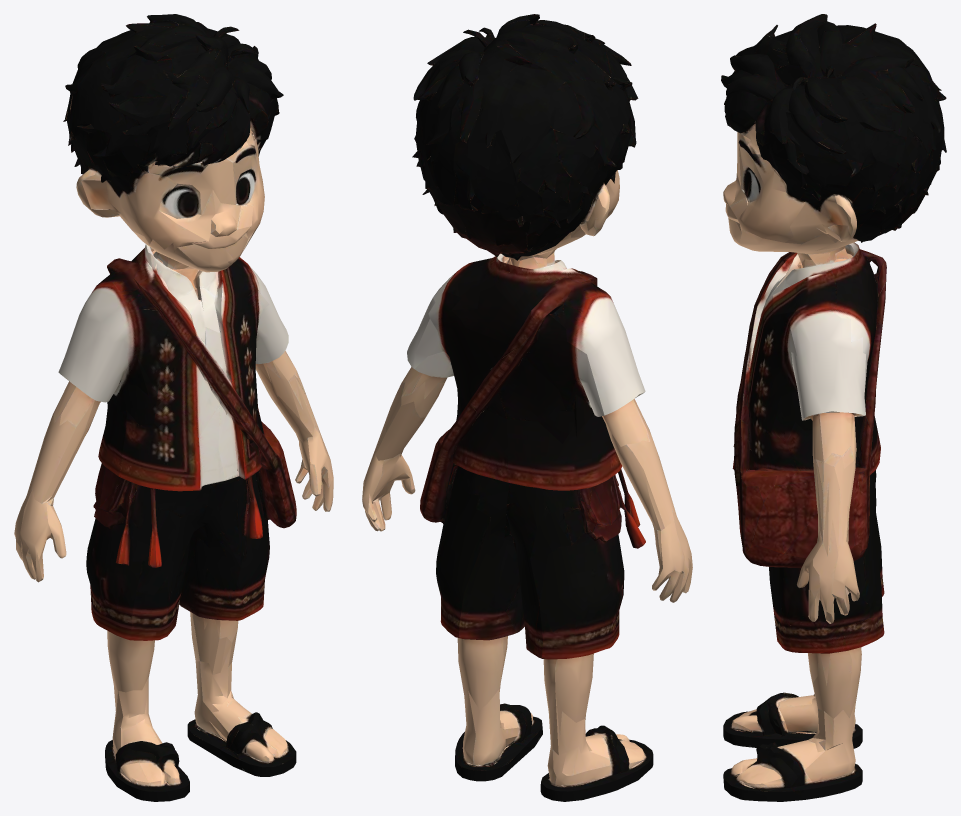
The model's file is kuzu.glb.
3 renders of one model, left to right at view 1: azimuth 30°, elevation 25°; view 2: azimuth 150°, elevation 25°; view 3: azimuth 270°, elevation 25°, orthographic. The views are drawn at different scales.
Visible parts, largest first — view 1: KuzuBody; view 2: KuzuBody; view 3: KuzuBody.
Boxes of the visible parts, x1=… form: KuzuBody: x1=14, y1=14, x2=333, y2=801; KuzuBody: x1=362, y1=14, x2=692, y2=801; KuzuBody: x1=721, y1=14, x2=946, y2=801.
Size of the model in its own units: 0.8449 by 1.9 by 0.5283.
Materials: 1 (1 with a texture image).
